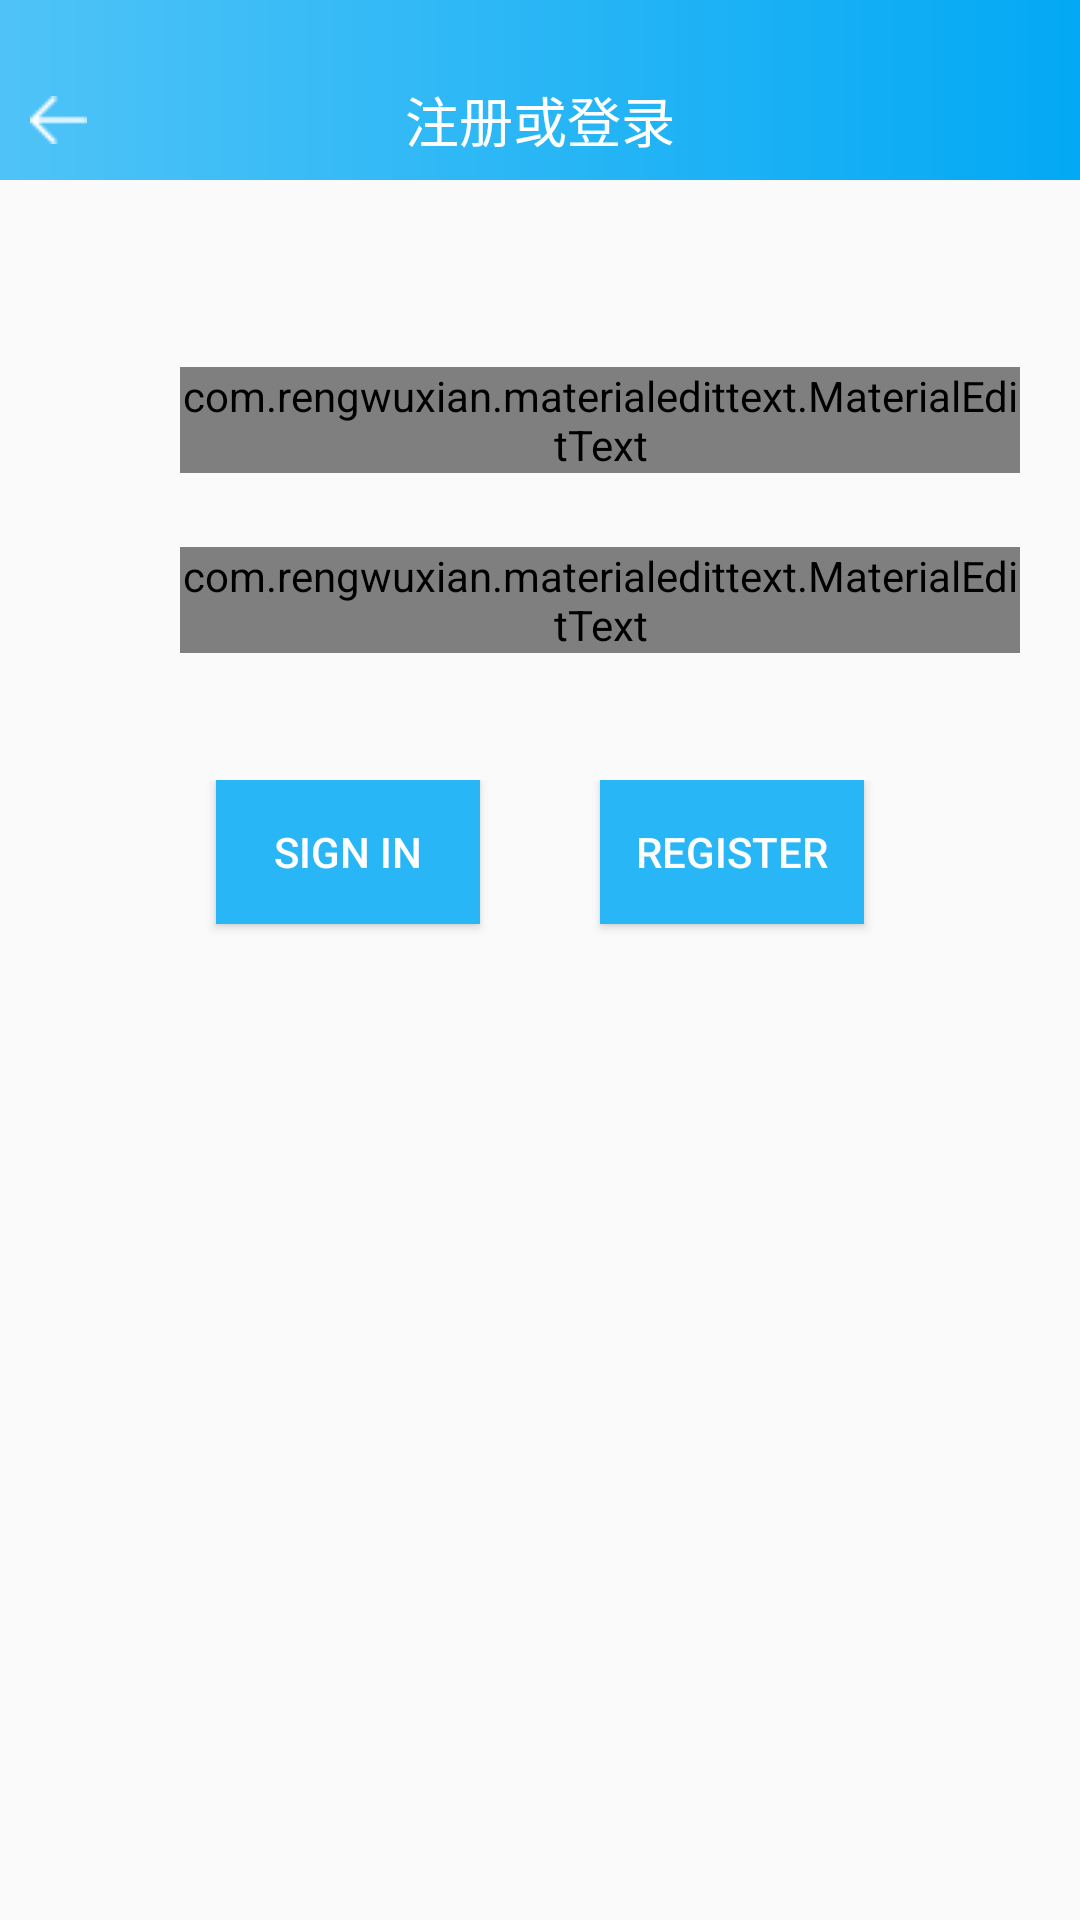

Icon bounding boxes for this 1080w x 1920h phone screenshot, format (x1, y1, x2, y2):
back: (30, 96, 87, 144)
